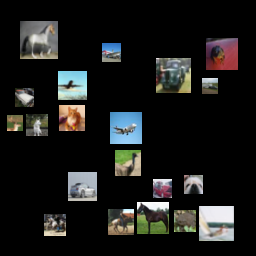airplane: (110, 112, 142, 144), (58, 71, 87, 100), (102, 43, 121, 62)
automobile: (68, 172, 97, 201), (15, 88, 34, 107), (153, 179, 172, 198)
bird: (115, 150, 141, 176)
cat: (59, 105, 85, 131)
deer: (7, 115, 23, 131)
dog: (26, 114, 48, 136), (184, 175, 203, 194)
frog: (206, 38, 238, 70), (174, 210, 196, 232)
ship: (199, 206, 234, 241)
